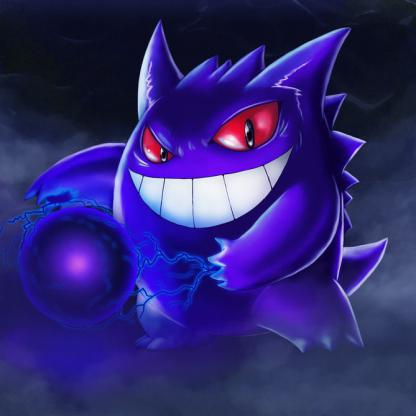Gengar: (46, 23, 380, 373)
